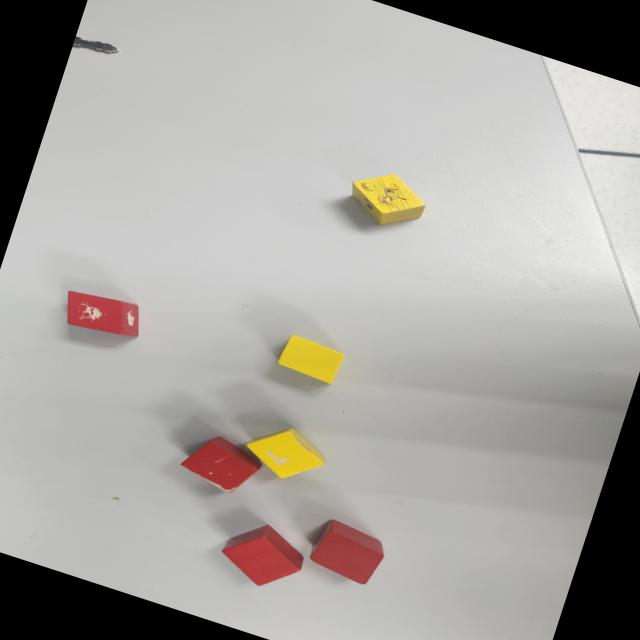broken: (238, 415, 334, 491), (341, 161, 433, 238), (177, 428, 268, 500), (59, 284, 148, 346)
red: (213, 514, 311, 598), (306, 516, 392, 590)
yellow: (276, 332, 346, 385)
